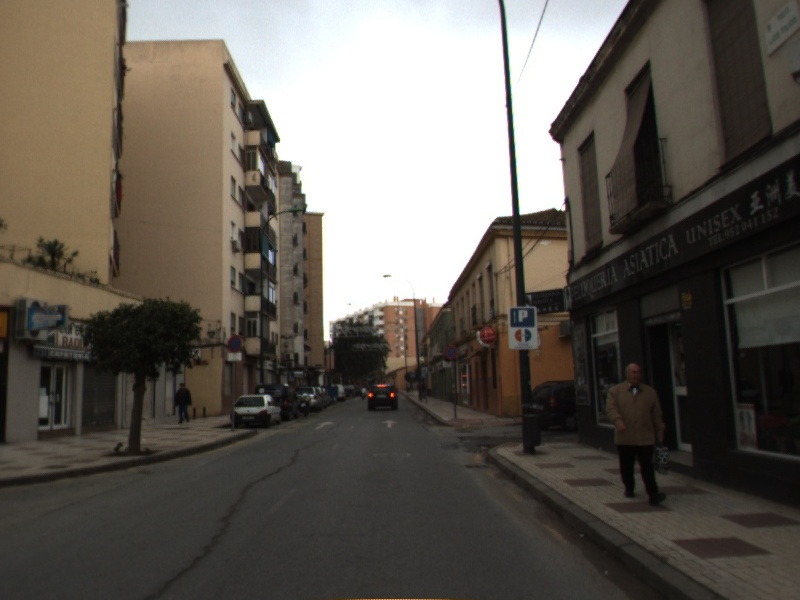STRAIGHT: (312, 419, 337, 432), (379, 417, 400, 430)
